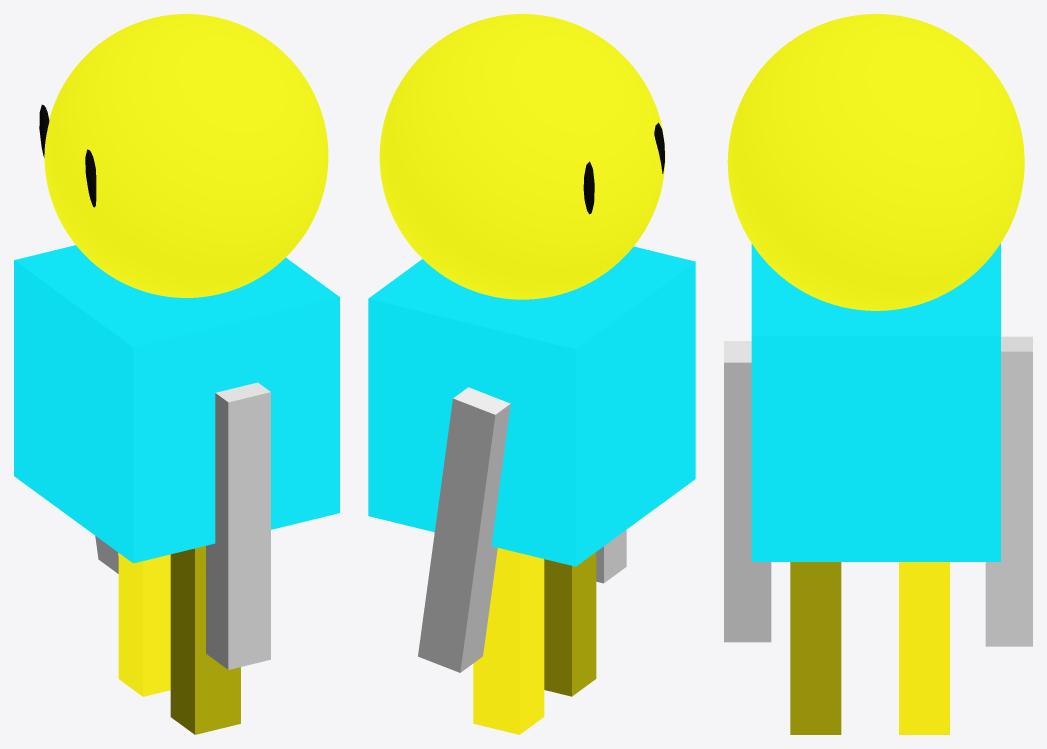
Rendered from Pixel Place Default - Jump.glb.
3 renders of one model, left to right at view 1: azimuth 30°, elevation 25°; view 2: azimuth 150°, elevation 25°; view 3: azimuth 270°, elevation 25°, orthographic. The views are drawn at different scales.
Parts seen in each view (by area): view 1: Cube, Sphere, Cube.003, Cube.001, Cube.002; view 2: Cube, Sphere, Cube.004, Cube.002, Cube.001, Cube.003; view 3: Sphere, Cube, Cube.004, Cube.003, Cube.001, Cube.002.
Boxes of the visible parts, x1,y1,x2,y2 form: Cube: (14,245,339,563); Sphere: (44,14,328,297); Cube.003: (206,382,270,669); Cube.001: (170,546,240,734); Cube.002: (118,553,170,696); Cube: (368,246,695,566); Sphere: (379,14,665,299); Cube.004: (418,387,510,672); Cube.002: (473,548,544,734); Cube.001: (544,552,596,696); Cube.003: (596,530,626,583); Sphere: (727,14,1024,310); Cube: (751,243,1000,561); Cube.004: (985,336,1032,646); Cube.003: (724,341,771,642); Cube.001: (790,562,841,734); Cube.002: (899,562,949,734).
Bounding box in the file's own units: 1.16 × 3.02 × 1.21.
